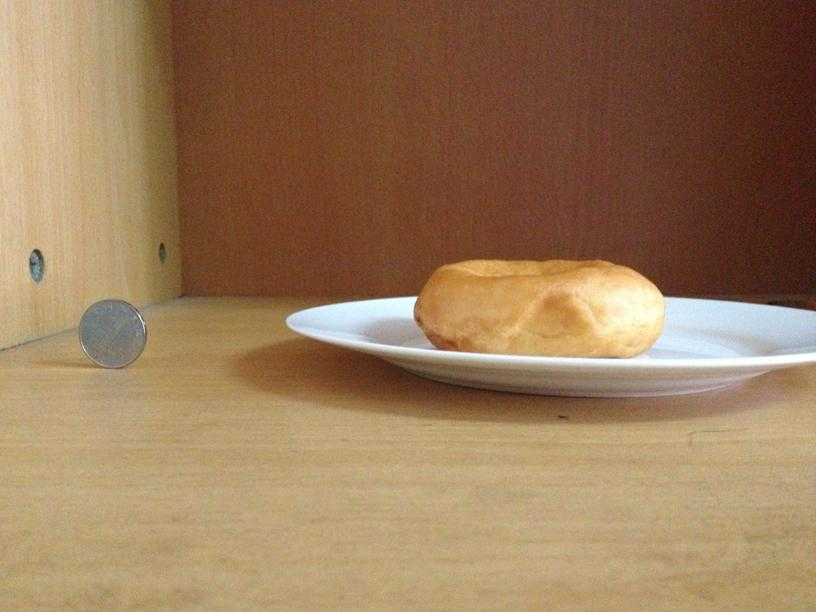coin: (77, 298, 146, 369)
doughnut: (415, 258, 665, 355)
